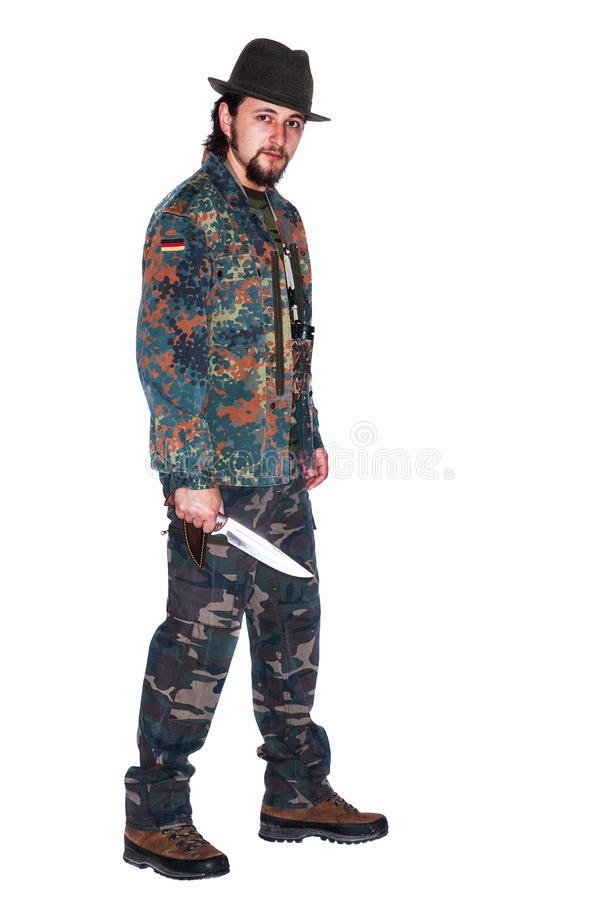criminal: (115, 32, 394, 885)
weapon: (160, 498, 322, 583)
